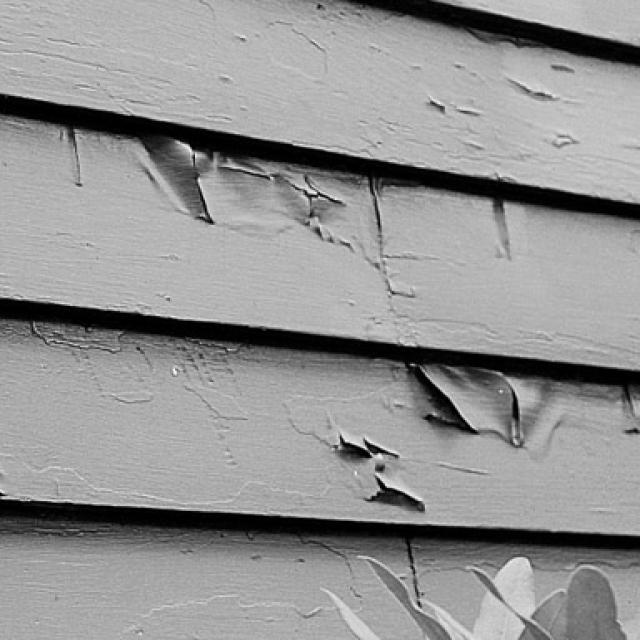peeling paint: (28, 0, 640, 543)
